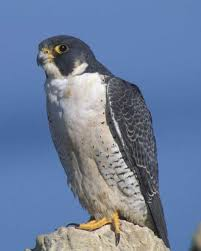Pengoyak Daging: (30, 51, 52, 69)
